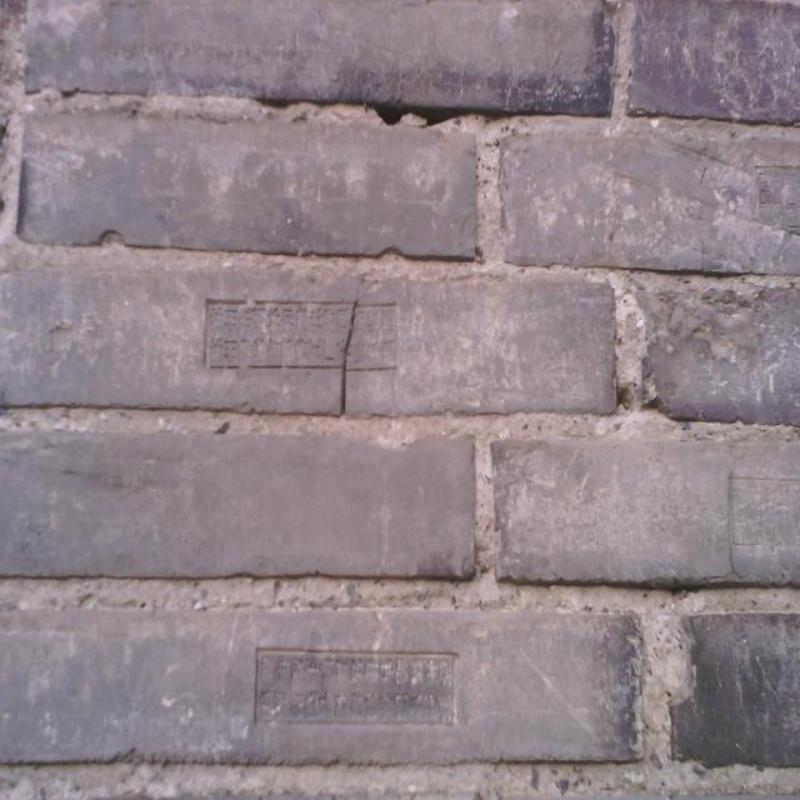pothole: (373, 104, 514, 125), (340, 297, 360, 416)
